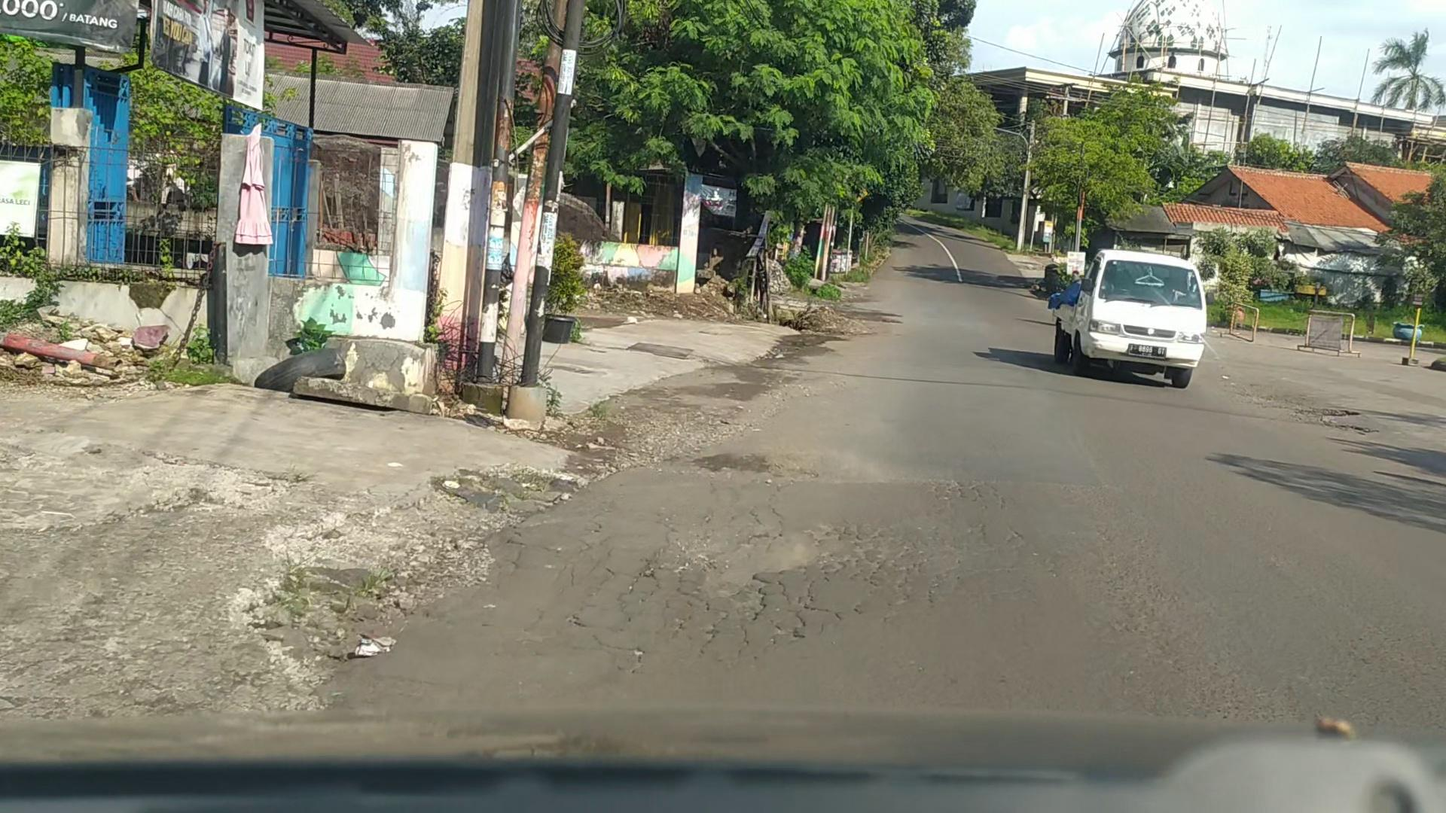pothole: (233, 465, 595, 697), (660, 520, 888, 600), (1289, 406, 1377, 434)
